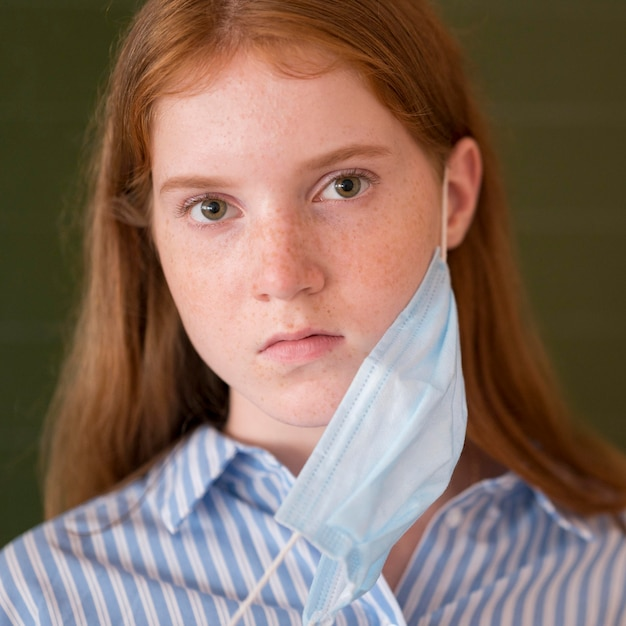teen: (116, 21, 478, 458)
